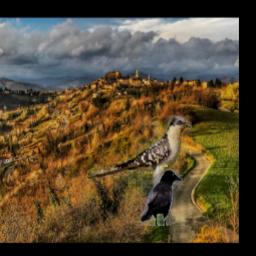Crow: (141, 170, 183, 227)
Cuckoo: (87, 116, 191, 189)
